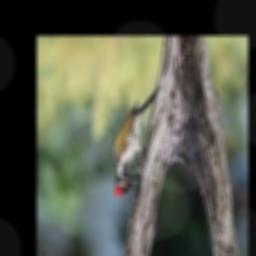Woodpecker: (114, 87, 159, 195)
